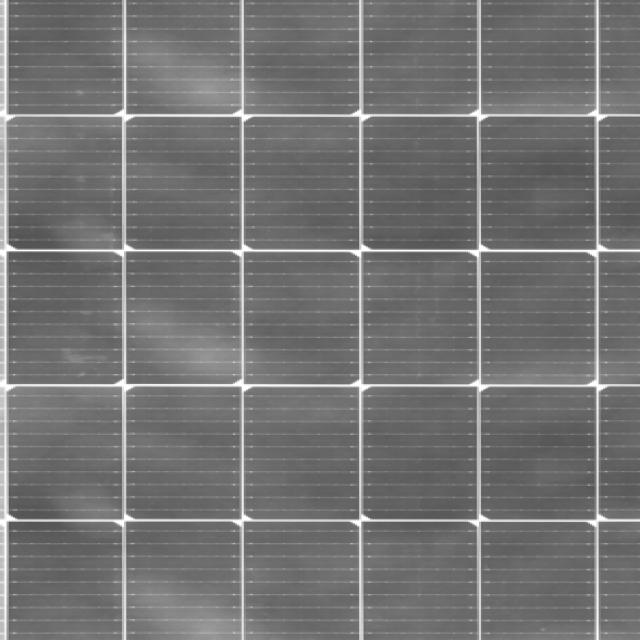CORRECT: (4, 0, 640, 640), (88, 69, 623, 614)
